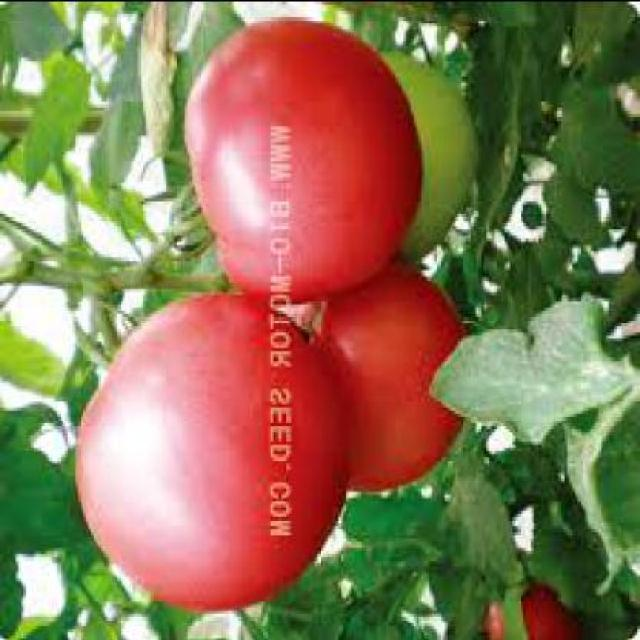BIODEGRADABLE: (78, 294, 345, 612), (185, 20, 422, 295), (312, 266, 465, 492), (382, 54, 474, 260), (489, 582, 580, 640)
